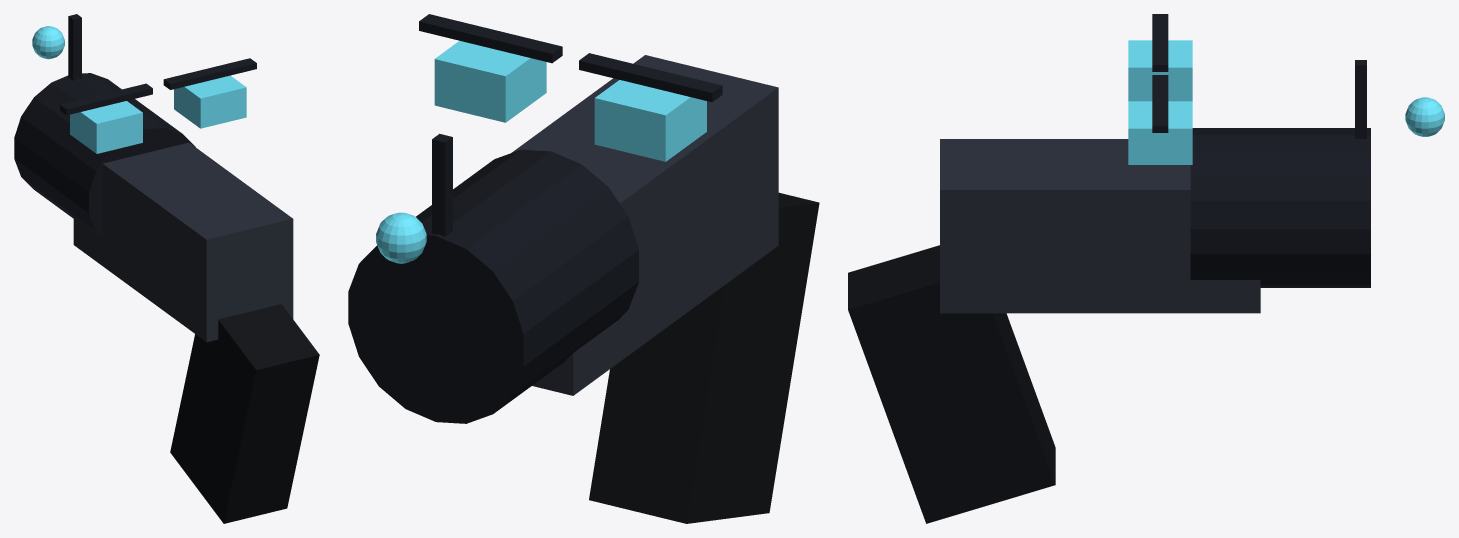
Rendered from dronepod.glb.
3 renders of one model, left to right at view 1: azimuth 30°, elevation 25°; view 2: azimuth 150°, elevation 25°; view 3: azimuth 270°, elevation 25°, orthographic. The views are drawn at different scales.
Visible parts, largest first — view 1: Cube, Cube.001, Cylinder, Cube.004, Cube.002, Cube.005, Cube.003, Cube.006, Sphere; view 2: Cylinder, Cube.001, Cube, Cube.002, Cube.004, Cube.005, Cube.003, Cube.006, Sphere; view 3: Cube, Cube.001, Cylinder, Cube.004, Cube.002, Sphere, Cube.003, Cube.005, Cube.006.
Boxes of the visible parts, left/top/right/bottom form: Cube: left=73, top=142, right=293, bottom=342; Cube.001: left=170, top=304, right=319, bottom=523; Cylinder: left=14, top=73, right=195, bottom=237; Cube.004: left=174, top=75, right=246, bottom=128; Cube.002: left=70, top=101, right=142, bottom=153; Cube.005: left=163, top=58, right=256, bottom=89; Cube.003: left=60, top=83, right=152, bottom=115; Cube.006: left=68, top=14, right=81, bottom=80; Sphere: left=32, top=26, right=64, bottom=59; Cylinder: left=348, top=149, right=638, bottom=423; Cube.001: left=589, top=192, right=819, bottom=523; Cube: left=511, top=55, right=778, bottom=395; Cube.002: left=594, top=80, right=706, bottom=161; Cube.004: left=434, top=40, right=546, bottom=122; Cube.005: left=419, top=14, right=562, bottom=63; Cube.003: left=579, top=53, right=722, bottom=102; Cube.006: left=432, top=133, right=452, bottom=236; Sphere: left=376, top=212, right=426, bottom=263; Cube: left=940, top=139, right=1260, bottom=313; Cube.001: left=848, top=245, right=1055, bottom=523; Cylinder: left=1190, top=128, right=1370, bottom=287; Cube.004: left=1128, top=101, right=1192, bottom=164; Cube.002: left=1128, top=40, right=1192, bottom=101; Sphere: left=1405, top=97, right=1444, bottom=136; Cube.003: left=1152, top=14, right=1168, bottom=71; Cube.005: left=1152, top=75, right=1168, bottom=132; Cube.006: left=1355, top=60, right=1366, bottom=138.
Bounding box in the file's own units: 0.66 × 1.22 × 1.49.
